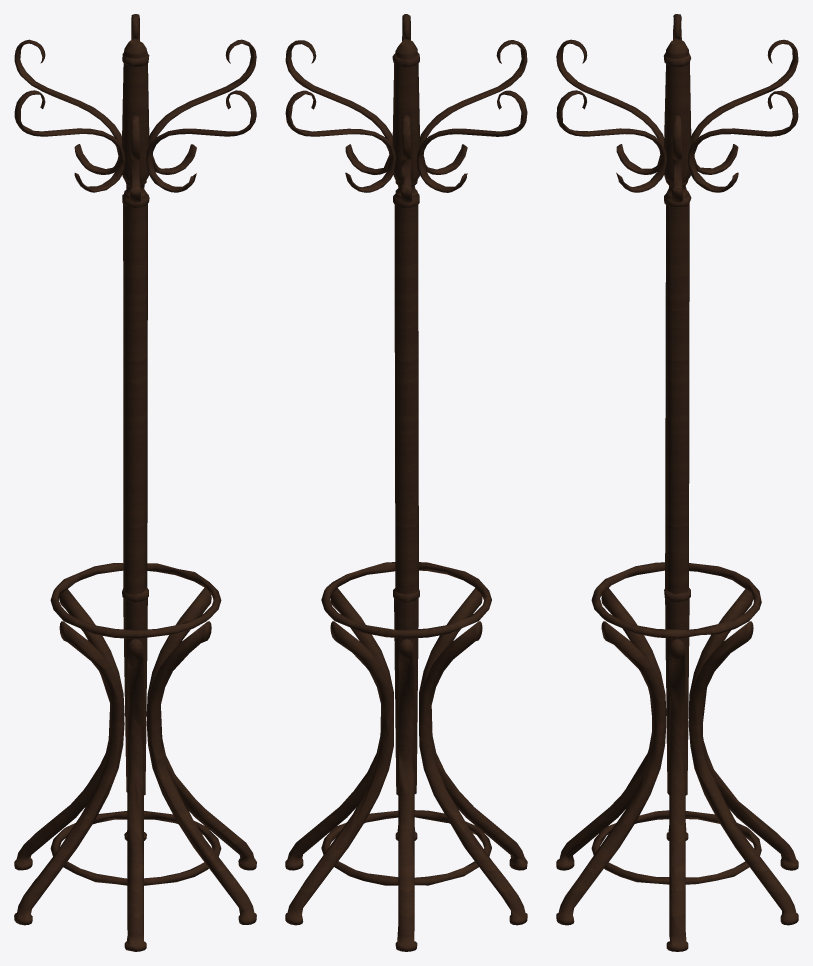
The model's file is Hanger.FBX.
3 renders of one model, left to right at view 1: azimuth 30°, elevation 25°; view 2: azimuth 150°, elevation 25°; view 3: azimuth 270°, elevation 25°, orthographic.
Visible parts, largest first — view 1: hanger; view 2: hanger; view 3: hanger.
Part boxes in pixels (left/top/right/bottom): hanger: left=14, top=14, right=256, bottom=951; hanger: left=285, top=14, right=527, bottom=951; hanger: left=556, top=14, right=798, bottom=951.
Size of the model in its own units: 51.41 by 174 by 44.98.
1 material, 1 textured.
